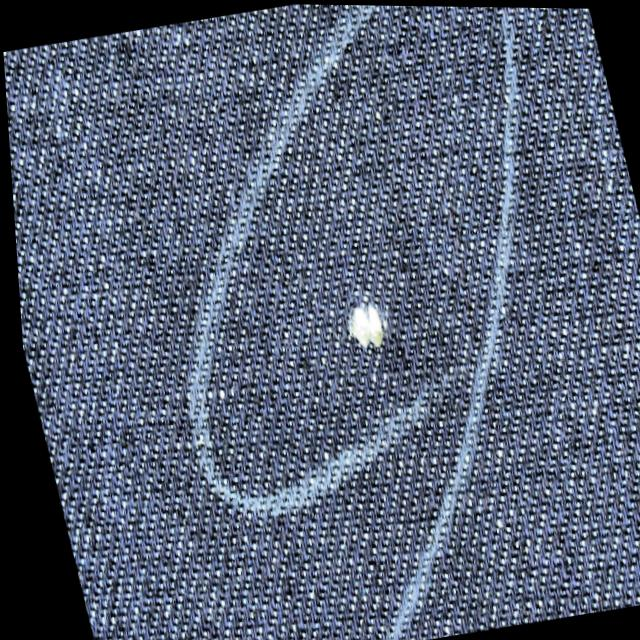Hole: (343, 302, 378, 348)
